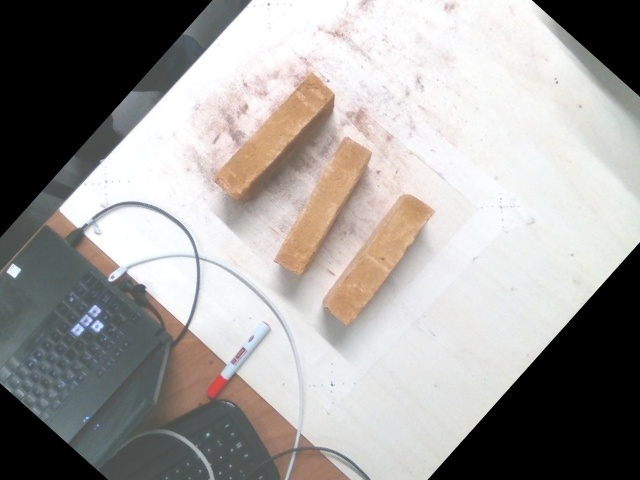brick-side: (215, 73, 331, 195), (327, 193, 431, 323), (275, 140, 368, 274)
